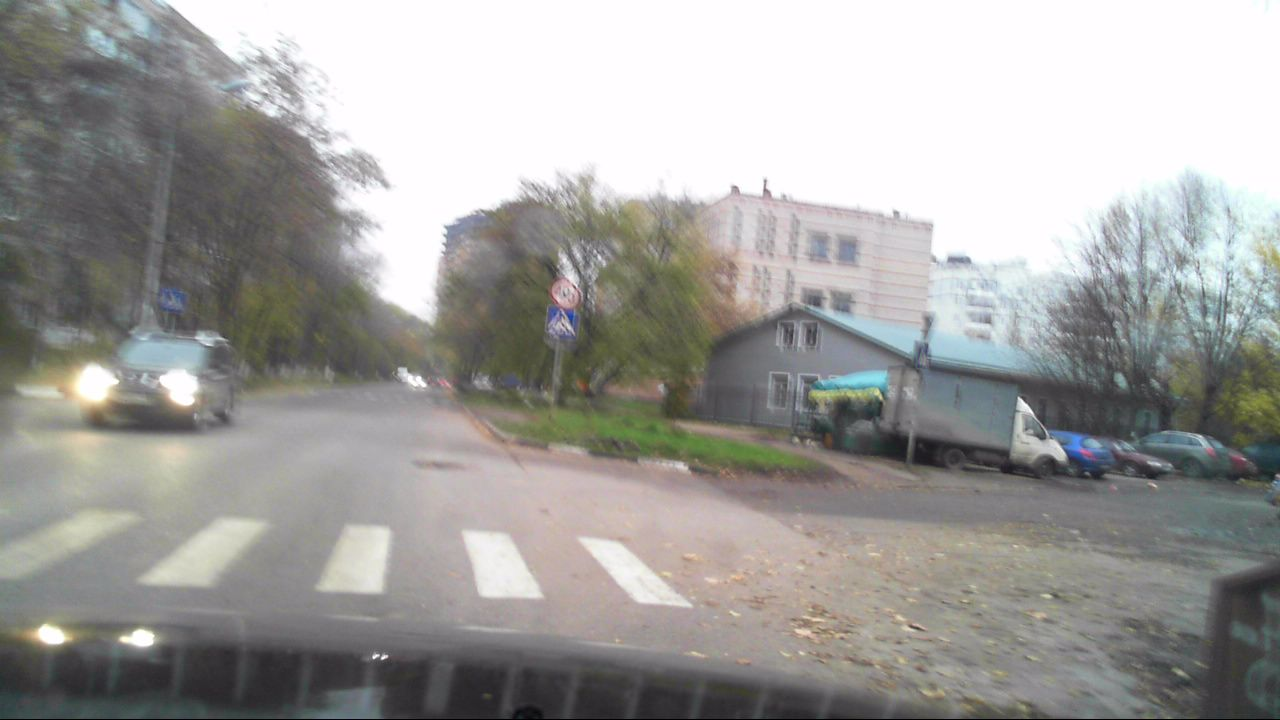speed_warning_40: (551, 279, 574, 303)
